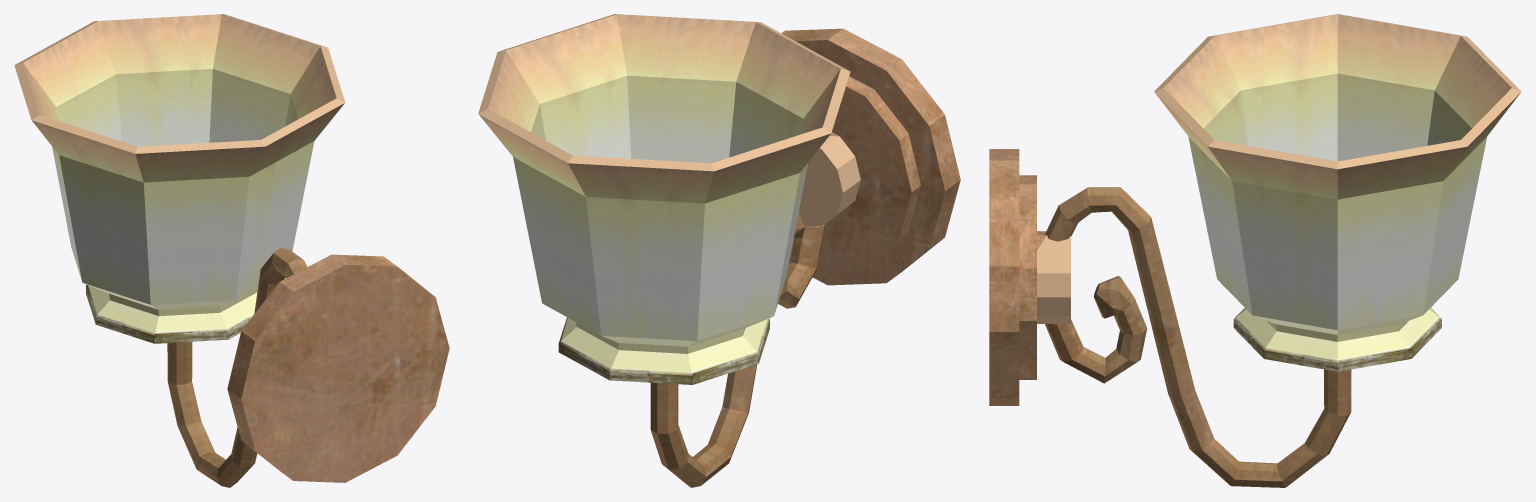
File: lamp2.fbx
The picture shows the model from 3 angles, left to right: view 1: azimuth 30°, elevation 25°; view 2: azimuth 150°, elevation 25°; view 3: azimuth 270°, elevation 25°; orthographic projection. The views are drawn at different scales.
Parts seen in each view (by area): view 1: Mesh1; view 2: Mesh1; view 3: Mesh1.
Boxes of the visible parts, left/top/right/bottom form: Mesh1: left=14, top=14, right=449, bottom=487; Mesh1: left=478, top=14, right=960, bottom=487; Mesh1: left=989, top=14, right=1521, bottom=487.
Bounding box in the file's own units: 112 × 134 × 162.
